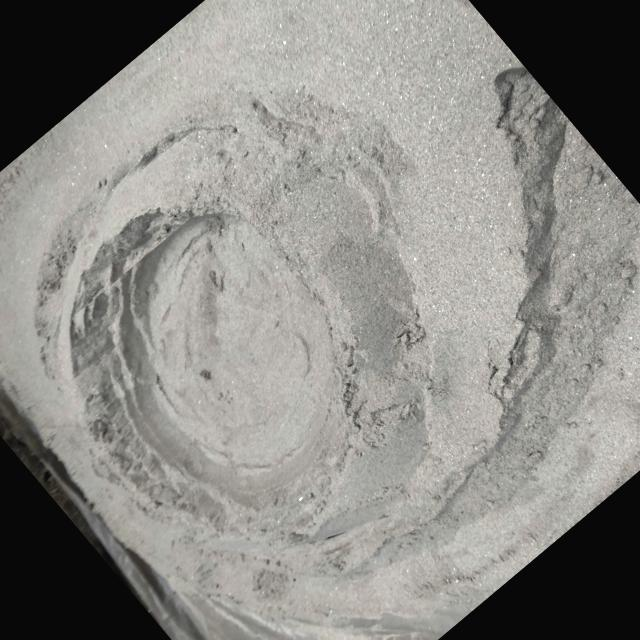C40: (118, 218, 334, 496)
